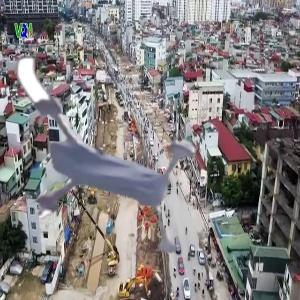drone: (4, 50, 219, 265)
